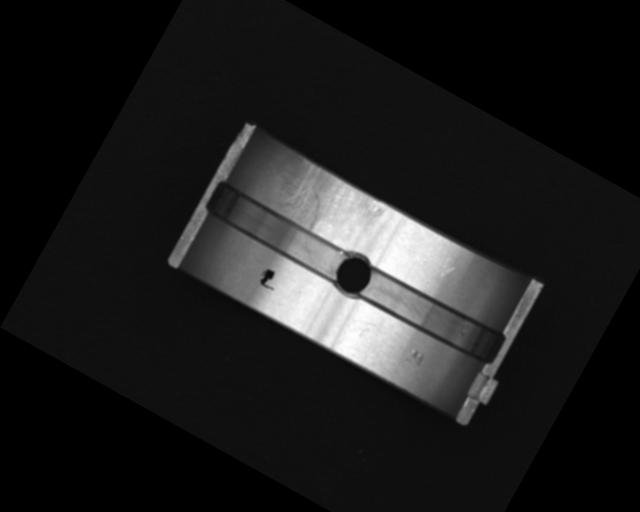blot: (256, 266, 281, 291)
bruise: (407, 349, 426, 367)
gap: (204, 180, 354, 285), (356, 264, 507, 368)
hole: (326, 245, 378, 302)
nick: (421, 258, 455, 299)
scratch: (270, 156, 386, 256)
